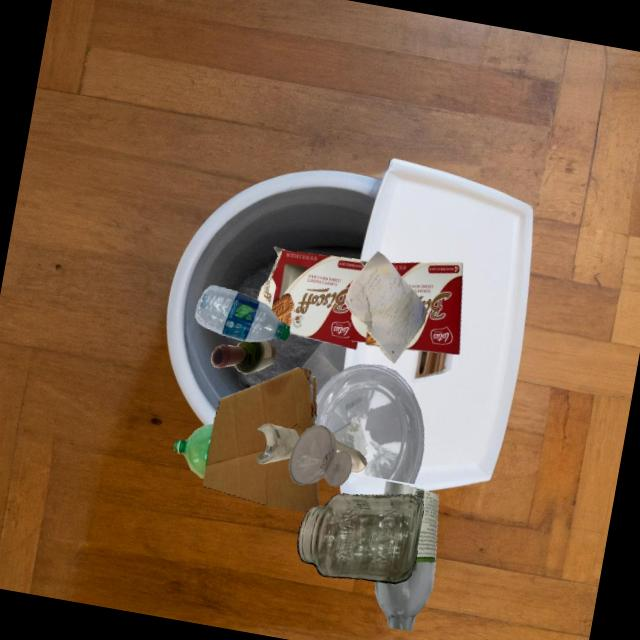cardboard: (202, 367, 318, 512), (257, 246, 368, 349), (367, 262, 443, 339), (404, 261, 462, 354)
glass: (297, 493, 423, 584), (375, 481, 438, 631), (288, 425, 351, 487), (211, 340, 276, 374), (255, 423, 299, 464)
paper: (344, 251, 426, 363), (335, 439, 367, 472)
plastic: (314, 364, 423, 483), (195, 285, 289, 341), (174, 424, 213, 478)
